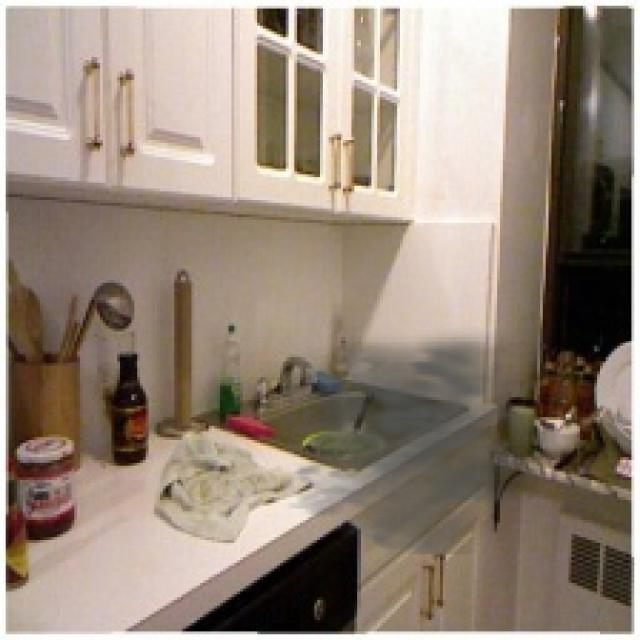smoke: (260, 323, 540, 554)
